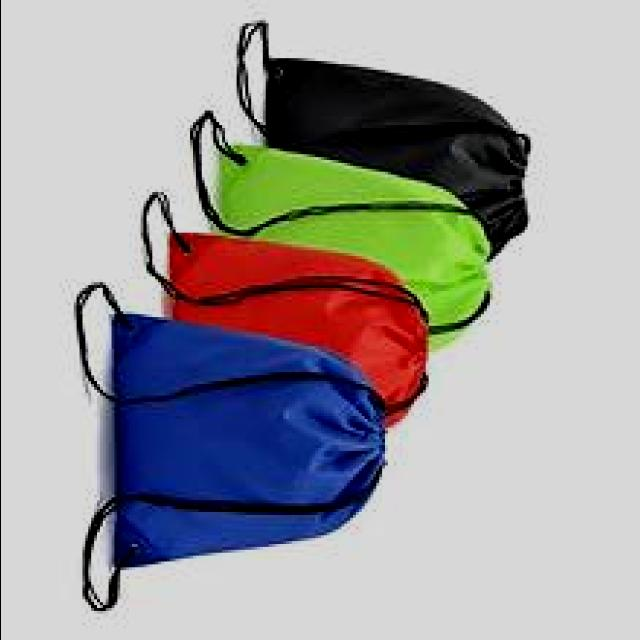backpack: (110, 307, 388, 575), (255, 53, 540, 288), (217, 139, 495, 371), (170, 231, 432, 429)
